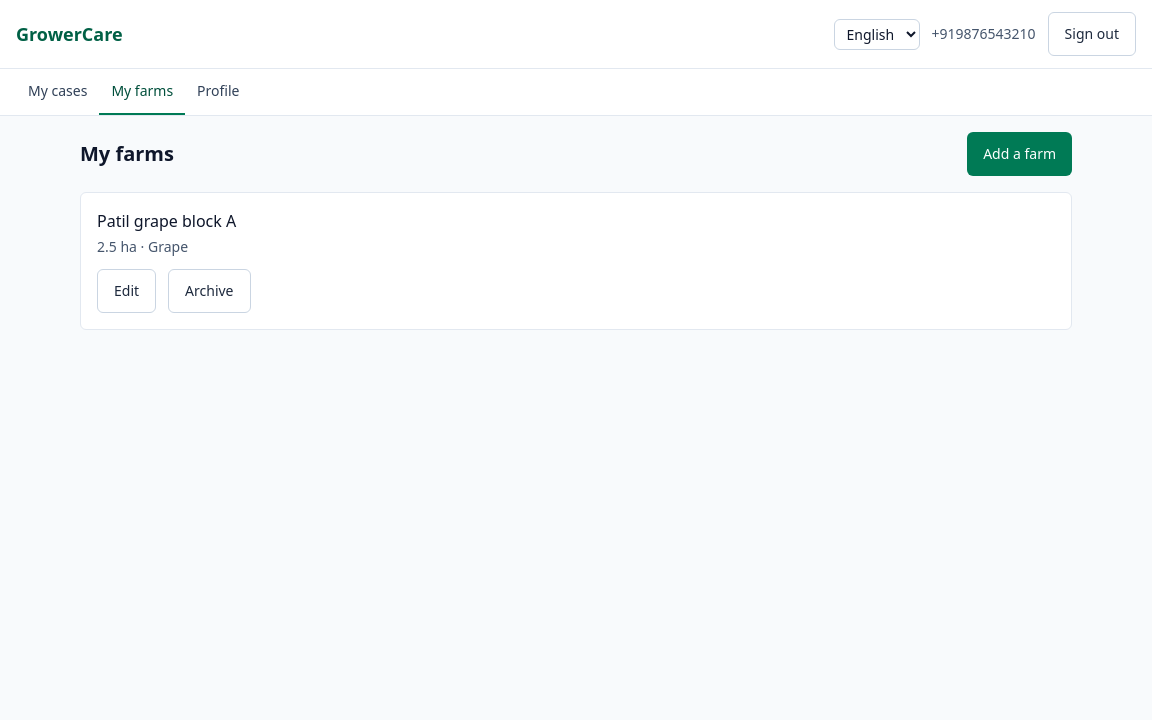
Test case: SPEC-FE-02 R105 farms (PRD J3) › FE-E105 an edit on a farm changed elsewhere is refused (412) and offers a reload
The image size is (1152, 720).
Later steps or results of the test are not shown.
Click the button with aria-label "Edit Patil grape block A". click: (127, 291)
box: [97, 269, 156, 313]
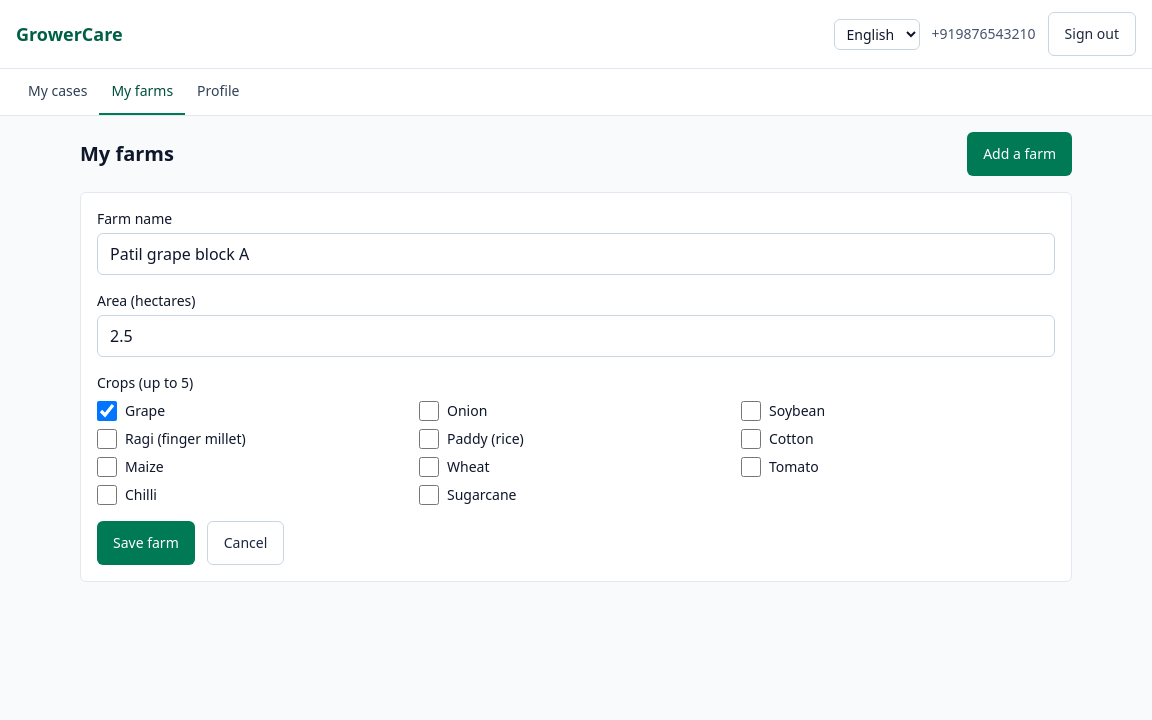
Click the button "Save farm". click: (146, 543)
box: [97, 521, 195, 565]
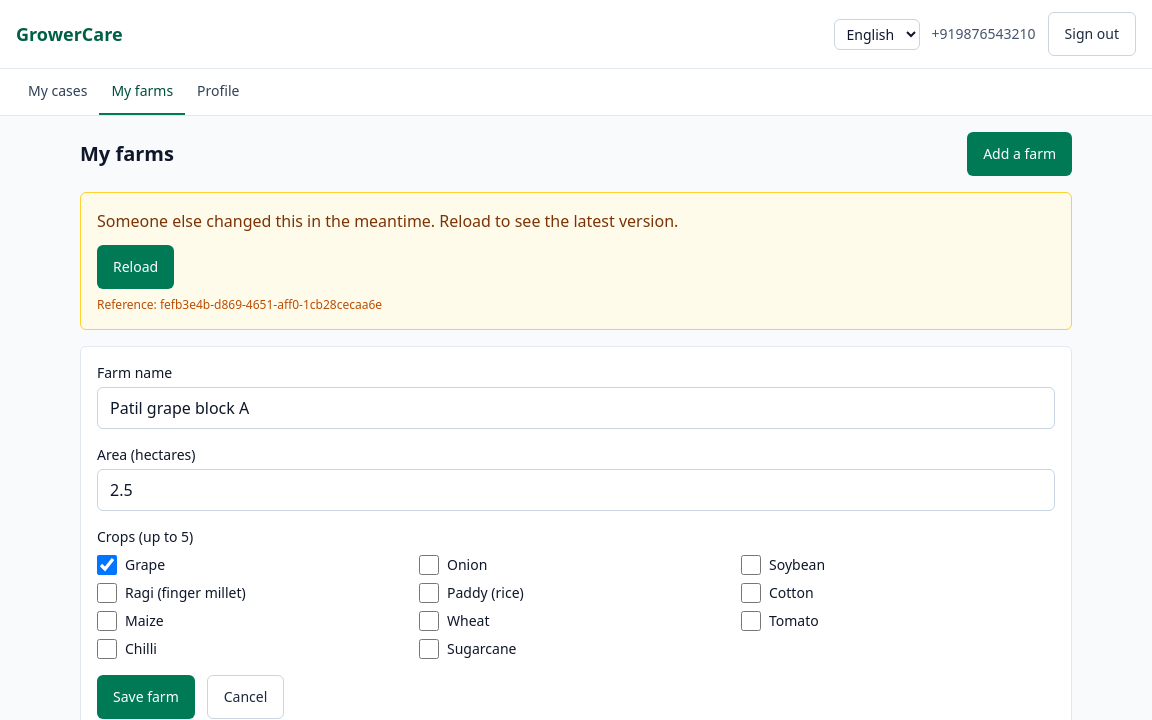
Check: the text "Someone else changed this" is shown, box [97, 210, 678, 232]
